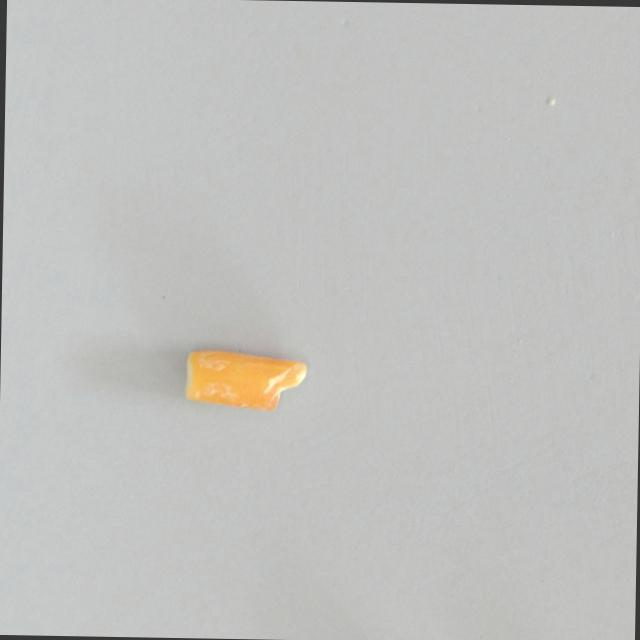pelicula: (177, 348, 305, 411)
